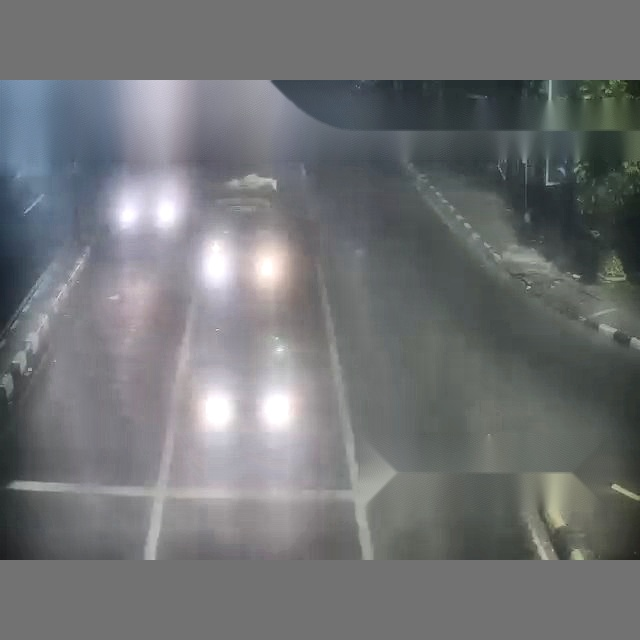Motor: (255, 240, 288, 320)
